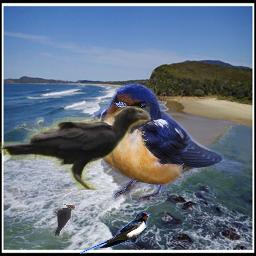Crow: (0, 106, 151, 190)
Swallow: (84, 82, 244, 204), (79, 212, 150, 254)
Woodpecker: (53, 203, 76, 236)
